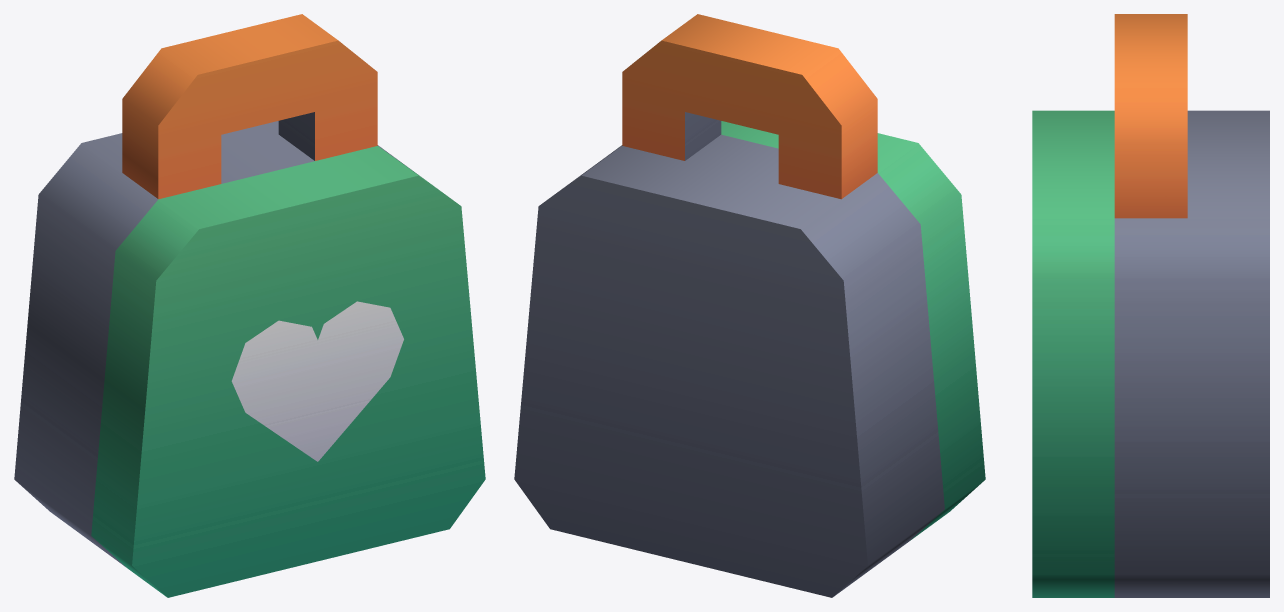
The model's file is aid-defibrillator-green.glb.
3 views of the same model, side by side, from view 1: azimuth 30°, elevation 25°; view 2: azimuth 150°, elevation 25°; view 3: azimuth 270°, elevation 25° (orthographic).
Parts seen in each view (by area): view 1: aid-defibrillator-green, Group; view 2: aid-defibrillator-green; view 3: aid-defibrillator-green.
Boxes of the visible parts, x1,y1,x2,y2 form: aid-defibrillator-green: (14, 14, 485, 597); Group: (231, 301, 403, 461); aid-defibrillator-green: (514, 14, 985, 597); aid-defibrillator-green: (1032, 14, 1269, 597).
Bounding box in the file's own units: 0.2255 × 0.29 × 0.14.
1 material, 1 textured.
